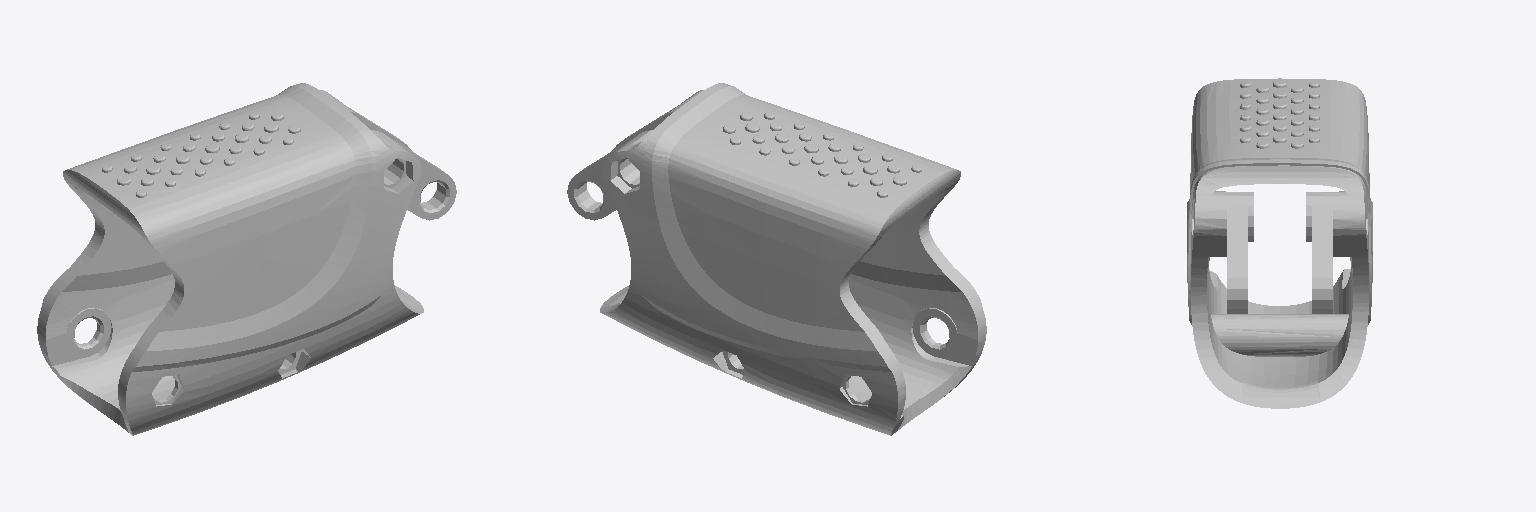
The model's file is right_thumb_2_visuals.obj.
3 renders of one model, left to right at view 1: azimuth 30°, elevation 25°; view 2: azimuth 150°, elevation 25°; view 3: azimuth 270°, elevation 25°, orthographic.
Size of the model in its own units: 0.0471 by 0.0343 by 0.0217.